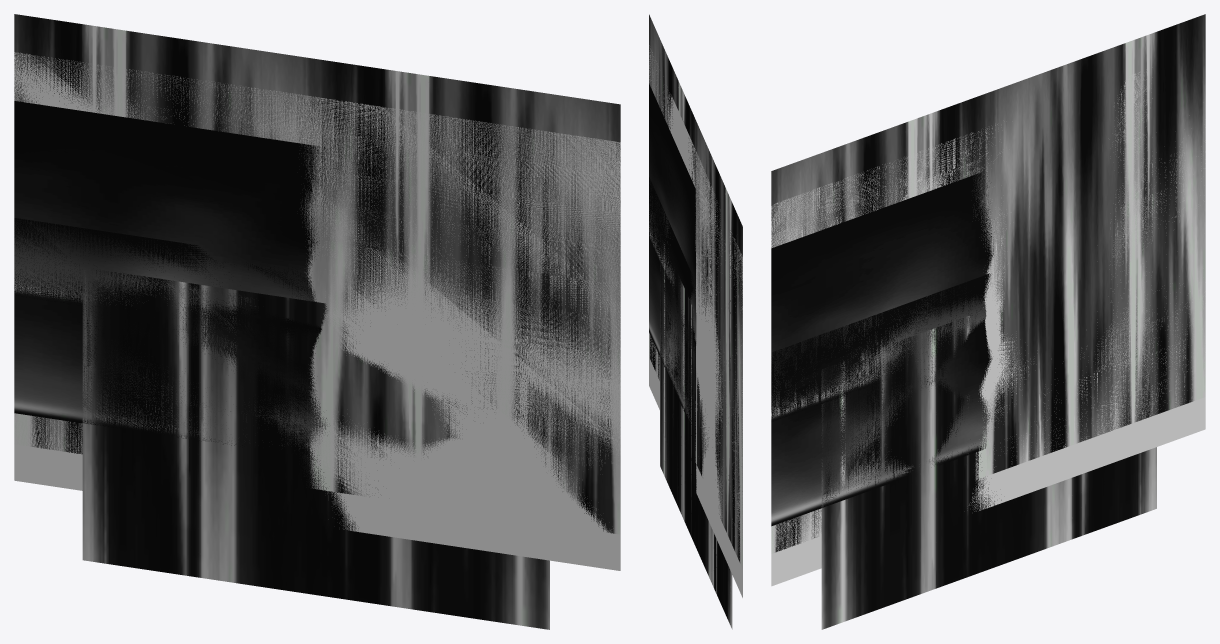
File: eff_scene_1.fbx
3 views of the same model, side by side, from view 1: azimuth 30°, elevation 25°; view 2: azimuth 150°, elevation 25°; view 3: azimuth 270°, elevation 25° (orthographic). The views are drawn at different scales.
Visible parts, largest first — view 1: eff_scene_0_0, eff_scene_4_0, eff_scene_1_0, eff_scene_3_0, eff_scene_2_0; view 2: eff_scene_0_0, eff_scene_4_0, eff_scene_1_0, eff_scene_2_0, eff_scene_3_0; view 3: eff_scene_0_0, eff_scene_1_0, eff_scene_3_0, eff_scene_2_0, eff_scene_4_0.
Boxes of the visible parts, bbox=[...] form: eff_scene_0_0: bbox=[14, 14, 620, 534]; eff_scene_4_0: bbox=[14, 52, 620, 570]; eff_scene_1_0: bbox=[82, 268, 549, 629]; eff_scene_3_0: bbox=[14, 101, 324, 320]; eff_scene_2_0: bbox=[14, 218, 327, 454]; eff_scene_0_0: bbox=[649, 14, 742, 568]; eff_scene_4_0: bbox=[649, 45, 742, 597]; eff_scene_1_0: bbox=[660, 234, 732, 629]; eff_scene_2_0: bbox=[649, 177, 695, 421]; eff_scene_3_0: bbox=[649, 83, 696, 344]; eff_scene_0_0: bbox=[771, 14, 1205, 553]; eff_scene_1_0: bbox=[821, 312, 1156, 629]; eff_scene_3_0: bbox=[771, 171, 993, 421]; eff_scene_2_0: bbox=[771, 273, 992, 526]; eff_scene_4_0: bbox=[771, 72, 1205, 586].
Size of the model in its own units: 6.93 by 9.8 by 8.1.
